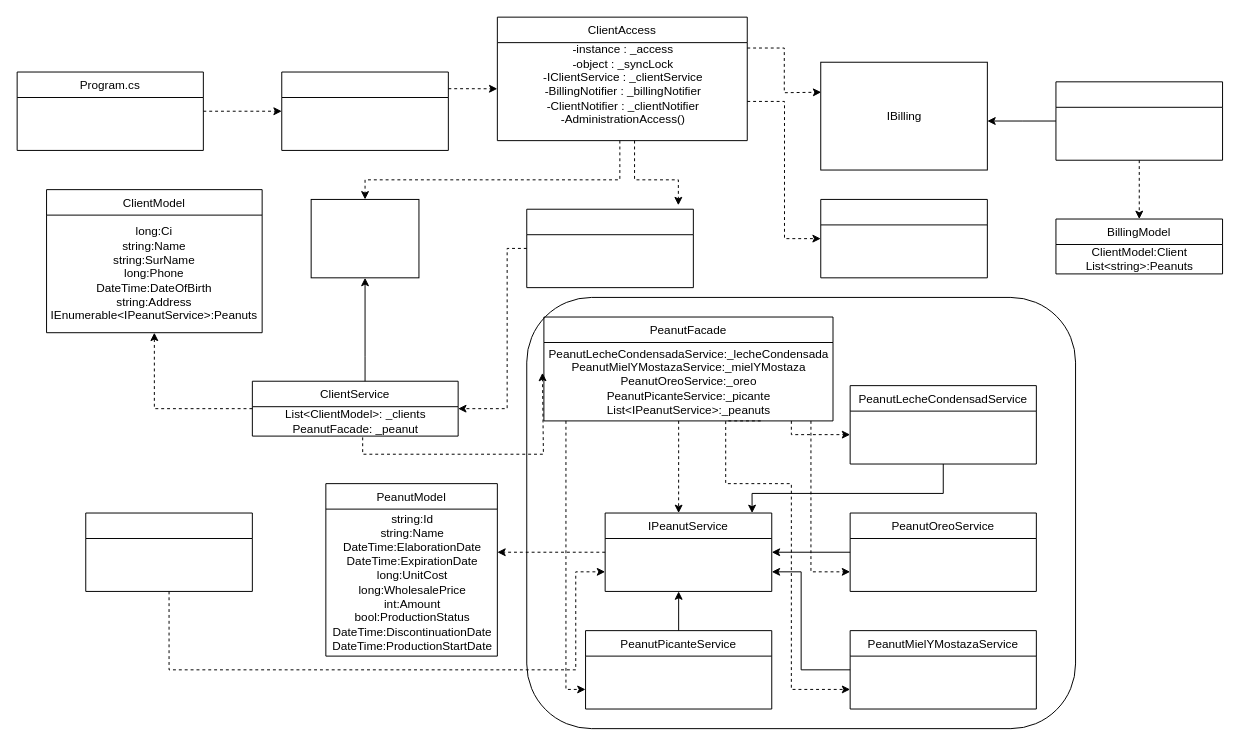
The diagram is 1240 pixels wide and 746 high, and some of its shapes have lost their labels. Each missing label, with the centre of its shape:
"BillingNotifier" belongs at point (903, 238).
"ClientBillingAdapter" belongs at point (1139, 120).
"ClientNotifier" belongs at point (609, 248).
"IClientService" belongs at point (364, 238).
"PeanutNotifier" belongs at point (168, 551).
"PrincipalMainNotifier" belongs at point (364, 110).
